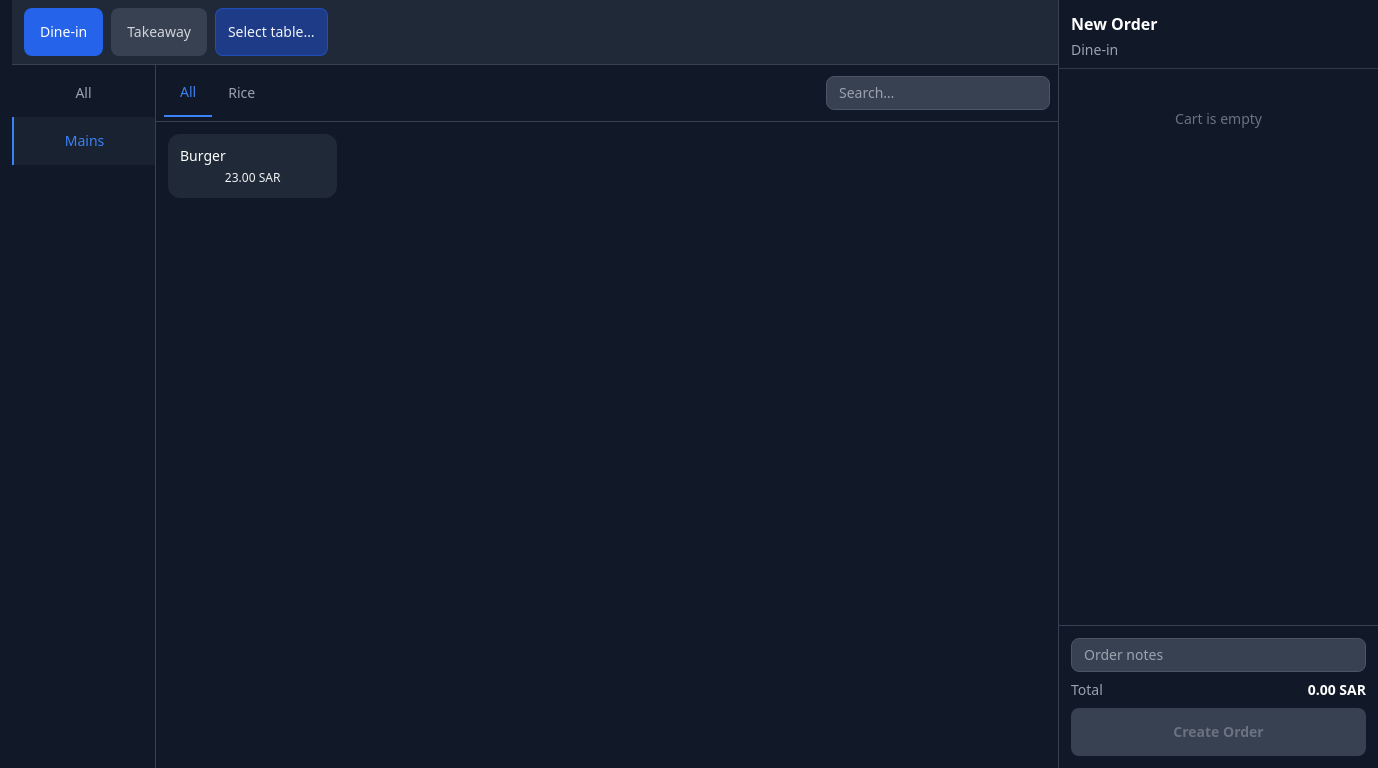
Test: OrderPage — Promotion Discount display (slice 9) › pre-create footer still shows the item sum
This screenshot has width=1378, height=768.
What coordinates should you click on to do the following:
click the text "Burger"
I would click on:
 (203, 156)
Its box is 180,146 -> 226,165.
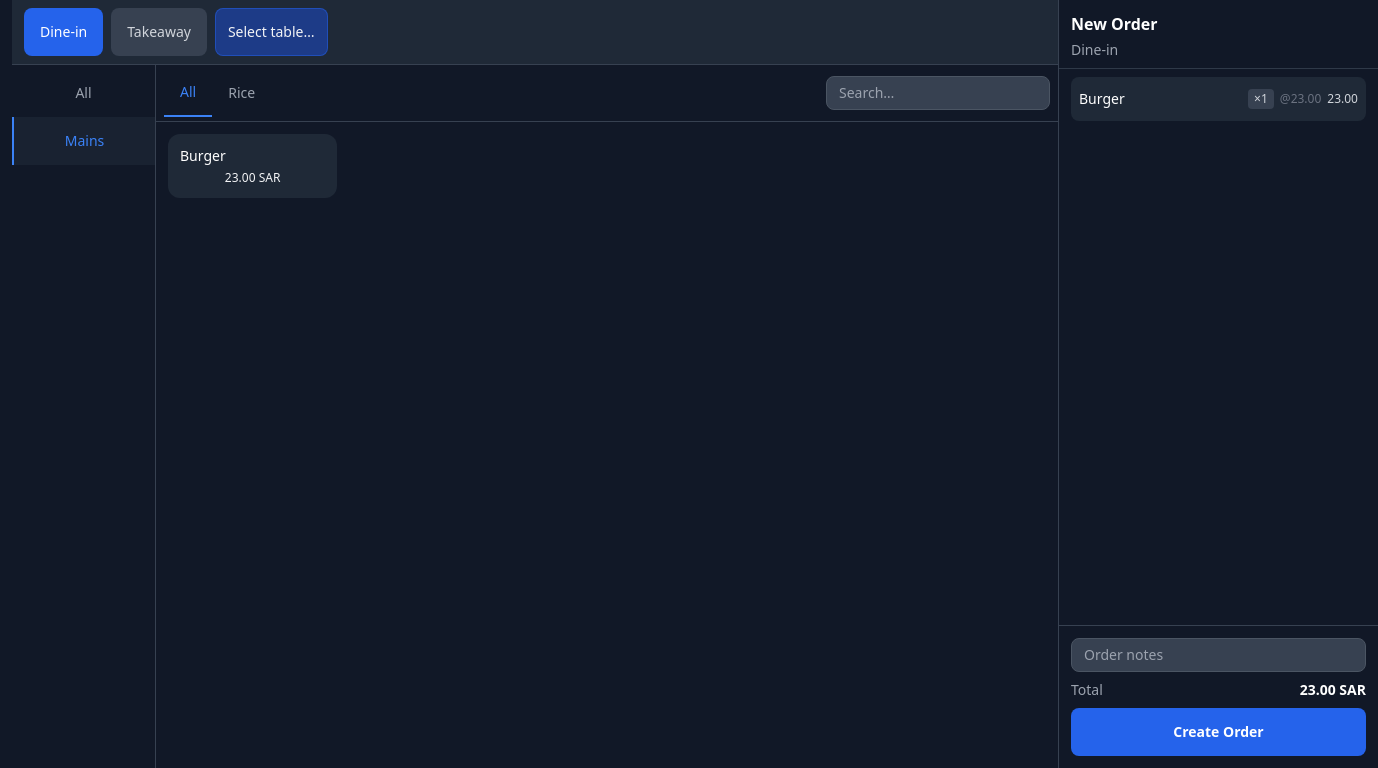
Expected: the text "Total" shows "23.00 SAR", 1071,680 -> 1366,700
